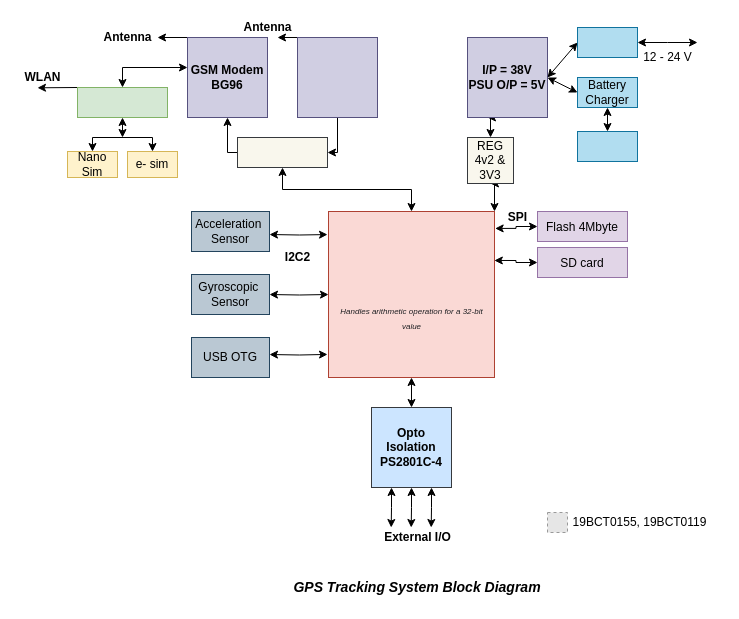
This 739x619 diagram has some shape labels left out. Grey dashed boxes stand in for pictures. Here are the shapes that lost their labels. From the top down, the box of each, then its label:
(576, 26, 638, 58): Surge Protector
(296, 36, 378, 118): GPS Quectel L89
(76, 86, 168, 118): Dual Sim Switching
(236, 136, 328, 168): RS - 232
(576, 130, 638, 162): Battery 4 Hrs
(328, 210, 494, 378): 32-Bit Micro Controller
